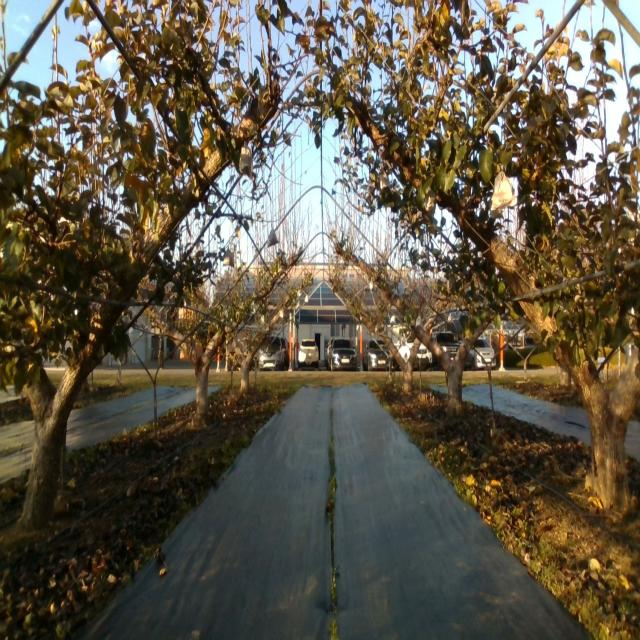pearbags: (491, 163, 517, 212), (239, 144, 254, 178), (267, 228, 279, 248), (223, 248, 234, 266)
